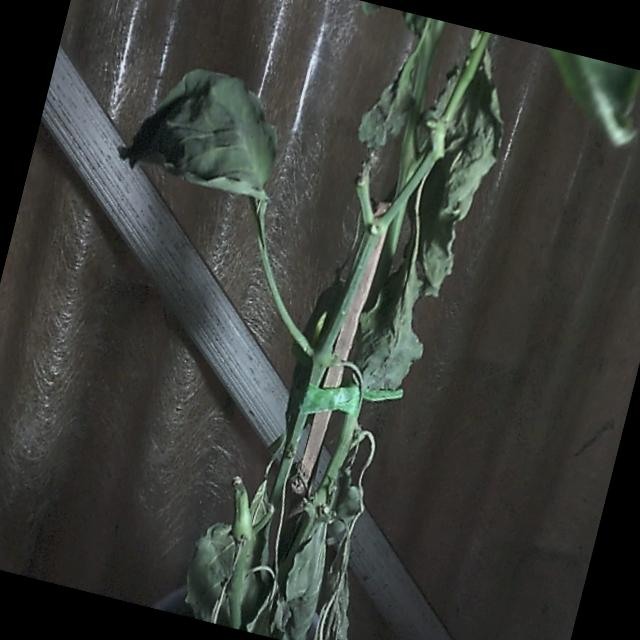Leaf: (112, 50, 295, 206), (345, 227, 450, 398)
